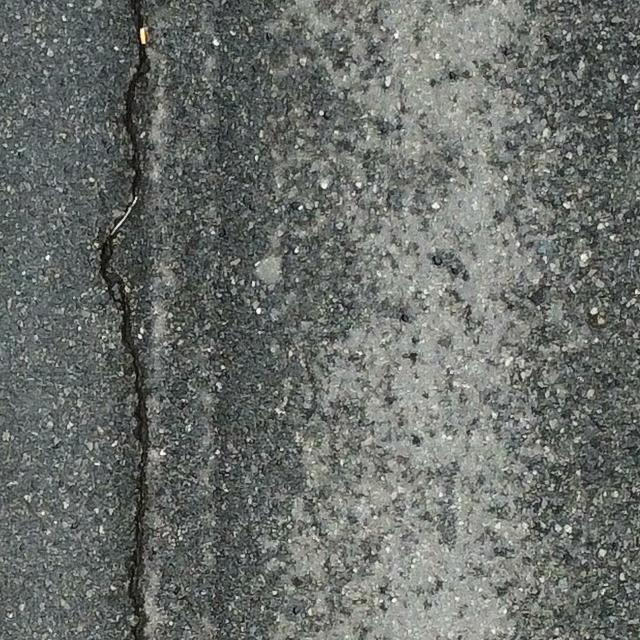LongitudinalCrack: (97, 1, 153, 640)
